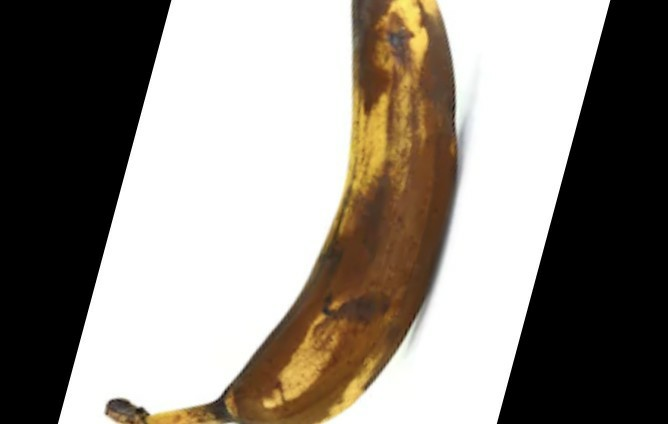rotten_banana: (147, 3, 462, 424)
